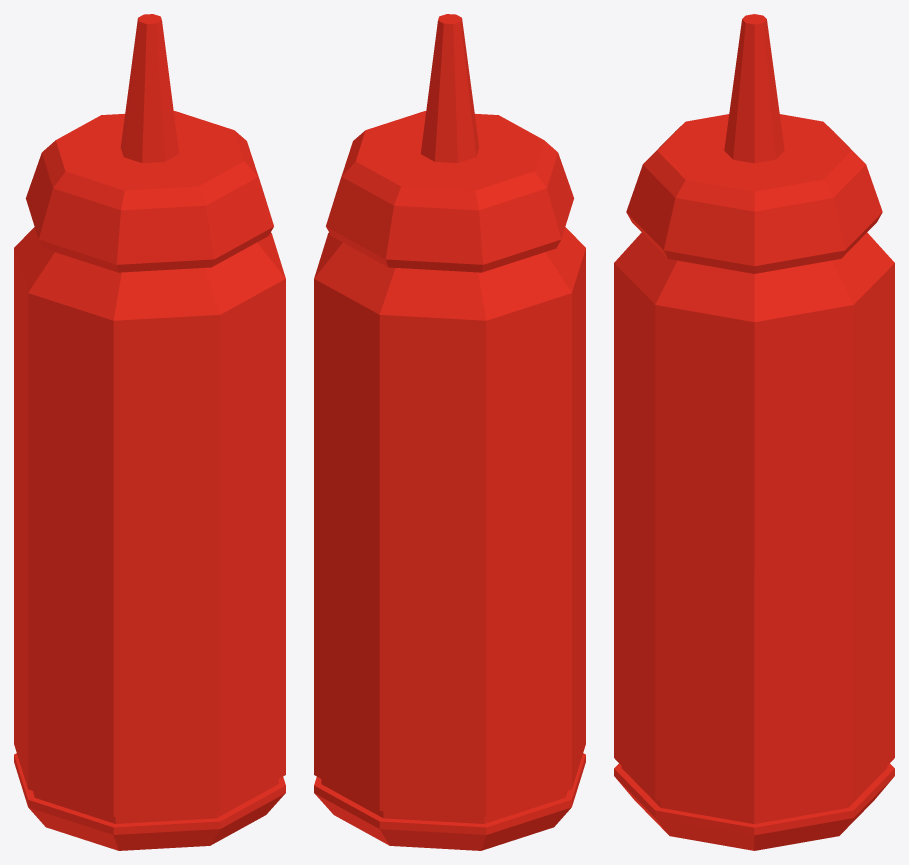
The model's file is KetchupBottle.glb.
3 views of the same model, side by side, from view 1: azimuth 30°, elevation 25°; view 2: azimuth 150°, elevation 25°; view 3: azimuth 270°, elevation 25° (orthographic).
Visible parts, largest first — view 1: KetchupBottle; view 2: KetchupBottle; view 3: KetchupBottle.
Boxes of the visible parts, left/top/right/bottom form: KetchupBottle: left=14, top=14, right=285, bottom=850; KetchupBottle: left=314, top=14, right=585, bottom=850; KetchupBottle: left=614, top=14, right=894, bottom=850.
Size of the model in its own units: 49.96 by 153 by 49.96.
